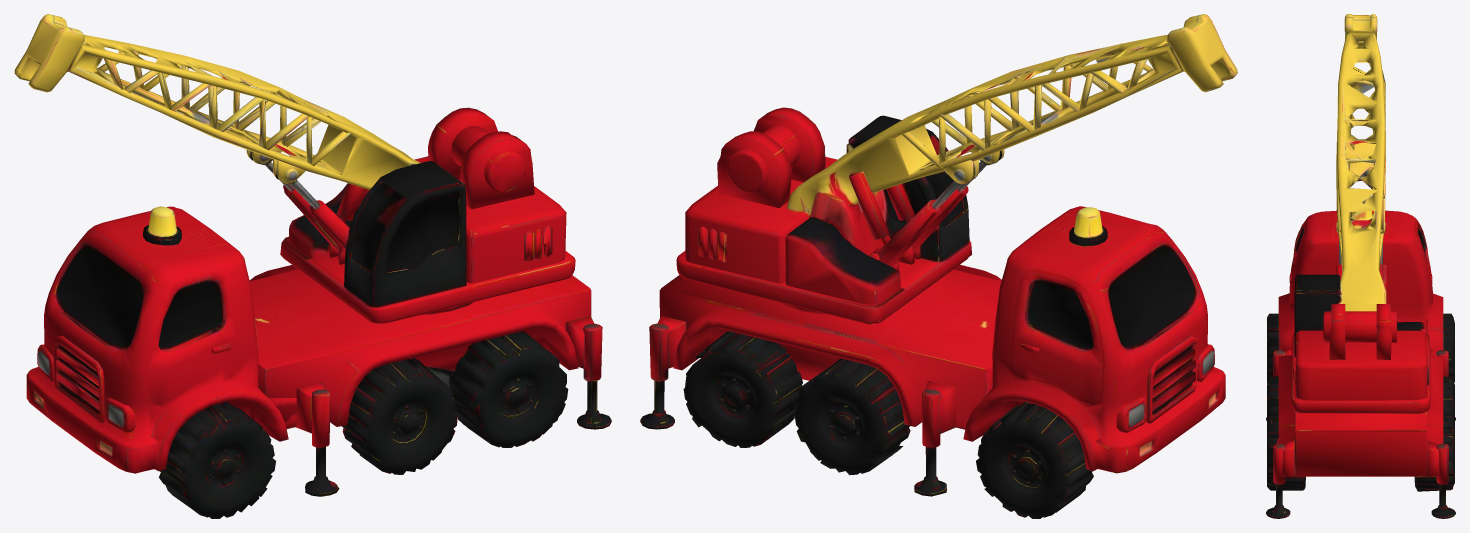
The model's file is veh-crane.glb.
The picture shows the model from 3 angles, left to right: view 1: azimuth 30°, elevation 25°; view 2: azimuth 150°, elevation 25°; view 3: azimuth 270°, elevation 25°; orthographic projection. The views are drawn at different scales.
Size of the model in its own units: 1.16 by 1 by 0.5127.
Materials: 1 (1 with a texture image).
